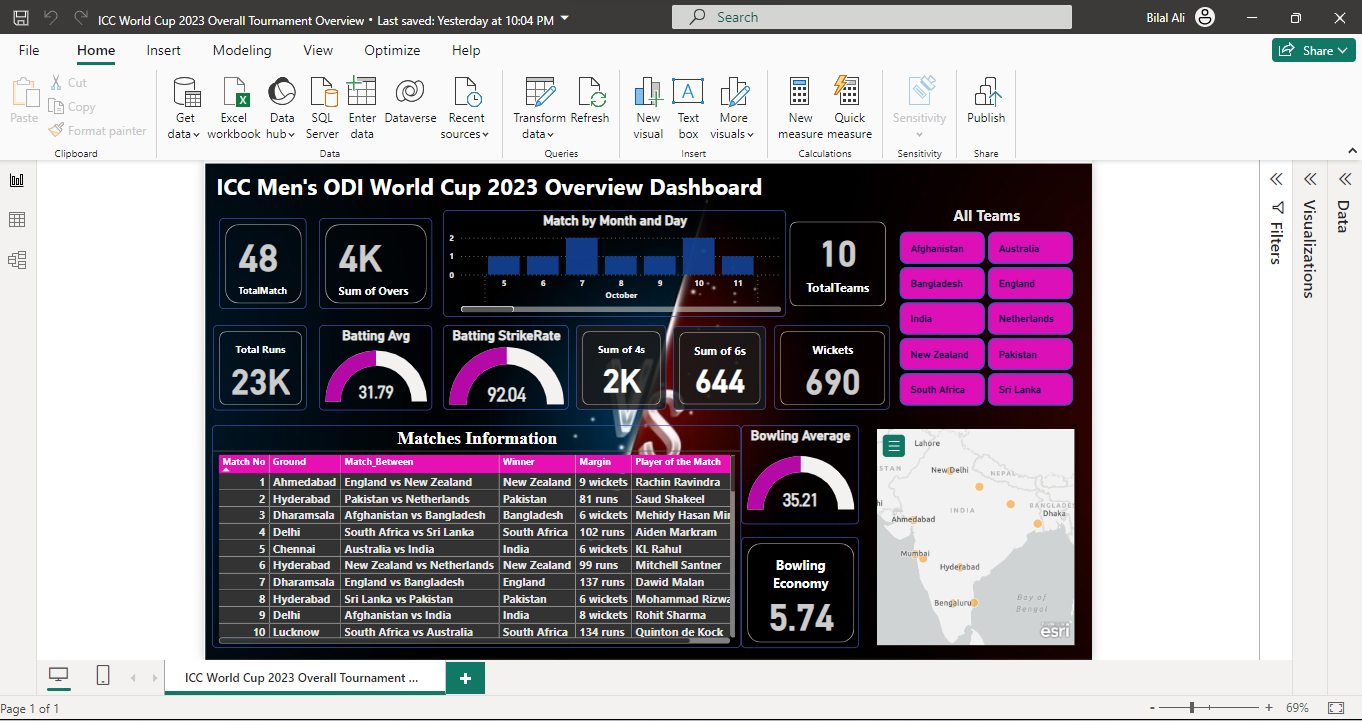

What the dashboard file says about the page in this screenshot:
{"tool":"powerbi","page":{"name":"ICC World Cup 2023 Overall Tournament Overview","canvas":[1280,720],"ordinal":0},"visuals":[{"type":"cardVisual","fields":{"Data":["Sum(bowling_summary.Overs)"]},"box":[165.9,84.1,162.5,130.7],"z":0},{"type":"cardVisual","fields":{"Data":["Key_Measures.wickets"]},"box":[820.8,237.6,167,122.4],"z":1000},{"type":"cardVisual","fields":{"Data":["Key_Measures.Total Runs"]},"box":[12.5,237.5,135.2,122.7],"z":2000},{"type":"lineClusteredColumnComboChart","title":"Match by Month and Day","fields":{"Category":["matches_schedule_results.Date.Variation.Date Hierarchy.Month","matches_schedule_results.Date.Variation.Date Hierarchy.Day"],"Y":["CountNonNull(matches_schedule_results.Match No)"]},"box":[344.2,72,493.9,154.1],"z":3000},{"type":"tableEx","title":"     Matches Information","fields":{"Values":["matches_schedule_results.Match No","matches_schedule_results.Ground","batting_summary_out.Match_Between","matches_schedule_results.Winner","matches_schedule_results.Margin","matches_schedule_results.Player of the Match"]},"box":[11.5,381.6,761.8,321.1],"z":4000},{"type":"advancedSlicerVisual","title":"All Teams","fields":{"Values":["world_cup_players_info.team_name"]},"box":[996.5,64.8,260.6,295.2],"z":5000},{"type":"cardVisual","title":"4s","fields":{"Data":["Sum(batting_summary_out.4s)"]},"box":[535.7,237.6,129.6,122.4],"z":6000},{"type":"cardVisual","fields":{"Data":["Sum(batting_summary_out.6s)"]},"box":[675.4,239,133.9,121],"z":7000},{"type":"cardVisual","fields":{"Data":["Key_Measures.TotalTeams"]},"box":[838.1,83.5,149.8,132.5],"z":8000},{"type":"cardVisual","fields":{"Data":["Key_Measures.TotalMatchesCount"]},"box":[21.6,84.1,126.1,130.7],"z":9000},{"type":"cardVisual","fields":{"Data":["Key_Measures.Economy"]},"box":[773.1,543.3,170.1,159.7],"z":10000},{"type":"gauge","fields":{"Y":["Key_Measures.Bowling Average"]},"box":[773.3,381.6,169.9,142.6],"z":11000},{"type":"gauge","fields":{"Y":["Key_Measures.Batting Avg"]},"box":[165.9,237.5,162.5,122.7],"z":12000},{"type":"gauge","fields":{"Y":["Key_Measures.Strike rate"]},"box":[344.2,237.6,181.4,122.4],"z":13000},{"type":"textbox","box":[12.5,10.2,808,54.5],"z":14000},{"type":"esriVisual","fields":{"Location":["matches_schedule_results.Ground"]},"box":[963.4,381.6,293.8,321.1],"z":15000}]}

Visuals, with their boxes on the page's 1280x720 design canvas (x1, y1, x2, y2). These are canvas units, not pixel positions in the 1362x721 screenshot, which may show the page scaled, cropped or inside an application window:
cardVisual - Sum(bowling_summary.Overs): (166, 84, 328, 215)
cardVisual - Key_Measures.wickets: (821, 238, 988, 360)
cardVisual - Key_Measures.Total Runs: (12, 238, 148, 360)
"Match by Month and Day" lineClusteredColumnComboChart: (344, 72, 838, 226)
"     Matches Information" tableEx: (12, 382, 773, 703)
"All Teams" advancedSlicerVisual: (996, 65, 1257, 360)
"4s" cardVisual: (536, 238, 665, 360)
cardVisual - Sum(batting_summary_out.6s): (675, 239, 809, 360)
cardVisual - Key_Measures.TotalTeams: (838, 84, 988, 216)
cardVisual - Key_Measures.TotalMatchesCount: (22, 84, 148, 215)
cardVisual - Key_Measures.Economy: (773, 543, 943, 703)
gauge - Key_Measures.Bowling Average: (773, 382, 943, 524)
gauge - Key_Measures.Batting Avg: (166, 238, 328, 360)
gauge - Key_Measures.Strike rate: (344, 238, 526, 360)
textbox: (12, 10, 820, 65)
esriVisual - matches_schedule_results.Ground: (963, 382, 1257, 703)
